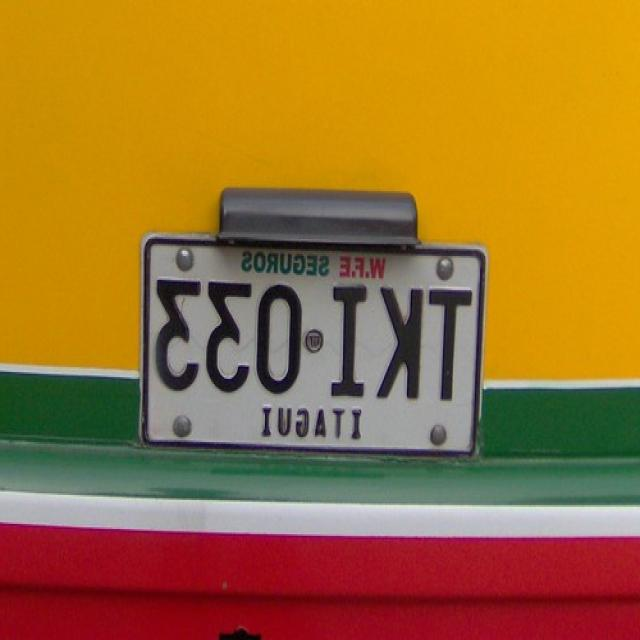placas: (150, 255, 475, 402)
